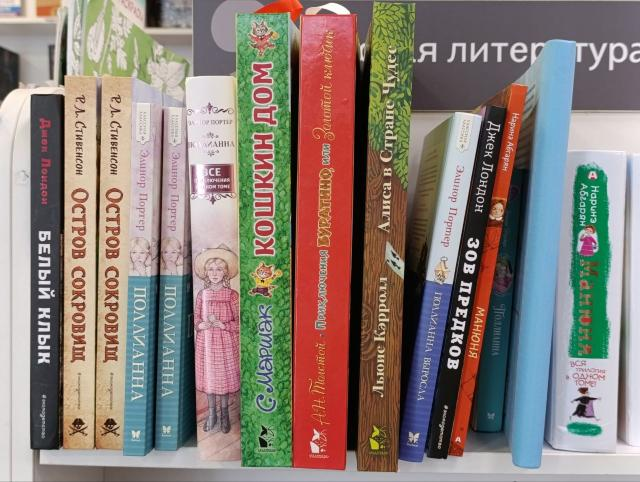book-s-spine: (399, 111, 483, 462), (449, 84, 526, 458), (293, 14, 356, 470), (427, 105, 507, 460), (357, 1, 416, 473), (236, 13, 292, 467), (553, 151, 628, 453), (185, 76, 241, 461), (95, 76, 133, 450), (475, 169, 525, 432), (63, 75, 98, 450), (30, 94, 62, 450), (123, 103, 155, 457), (155, 107, 187, 451)
